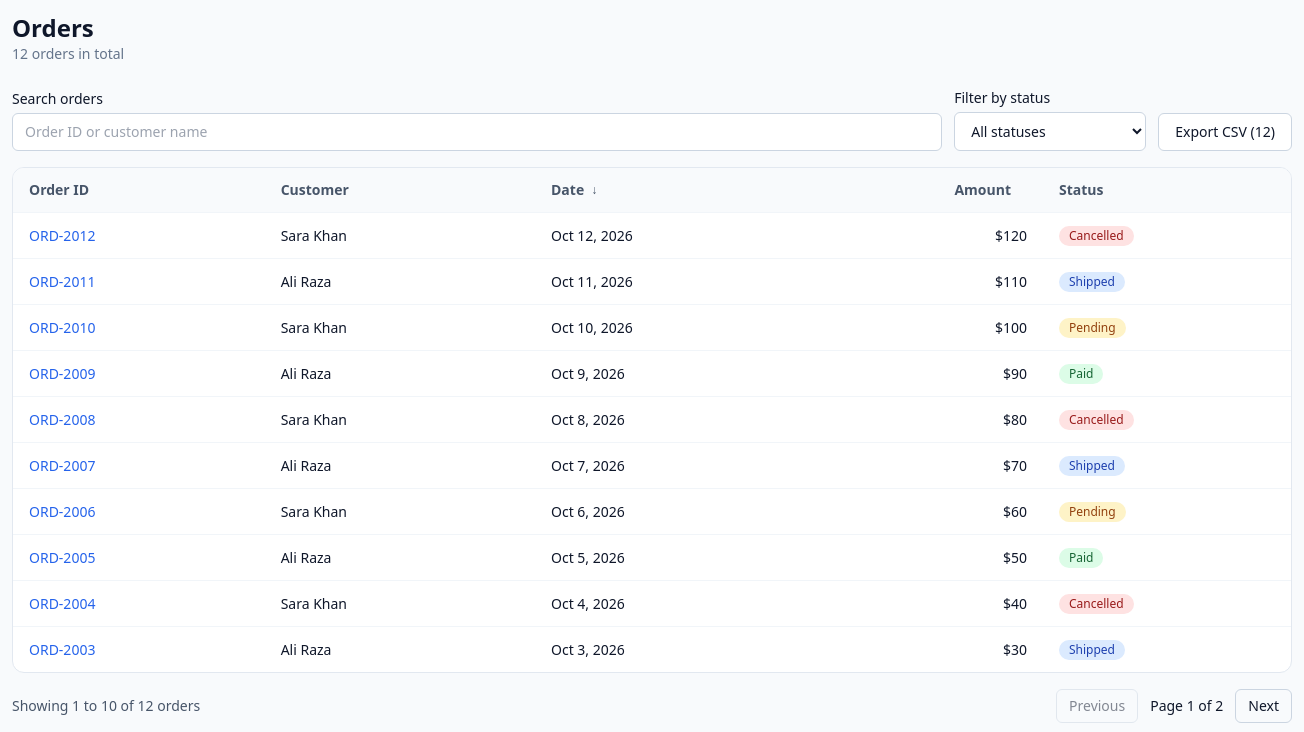
Test: OrdersPage › searches by customer name
The image size is (1304, 732).
In the search field labelled "Search orders": (477, 132) [12,113,942,151], type "sara"
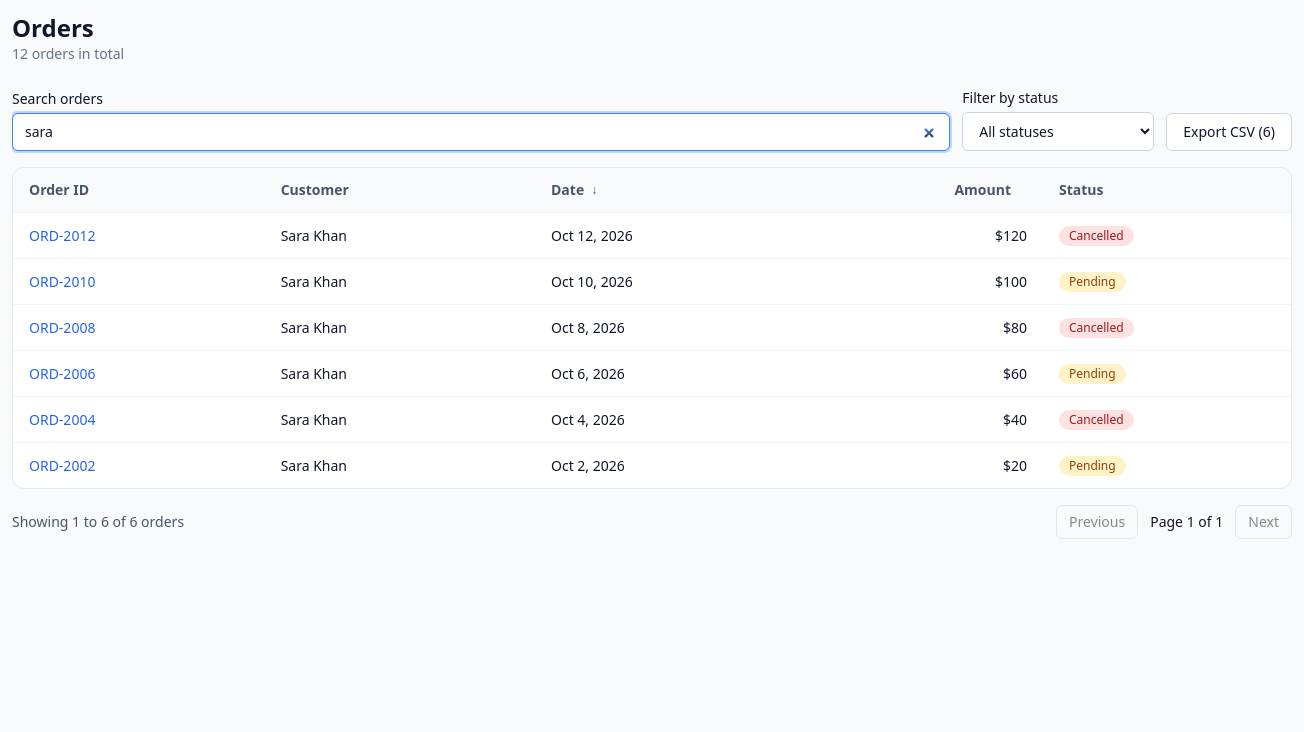
Expected: the text "Showing 1 to 6 of 6 orders" is shown, [12,512,184,532]
